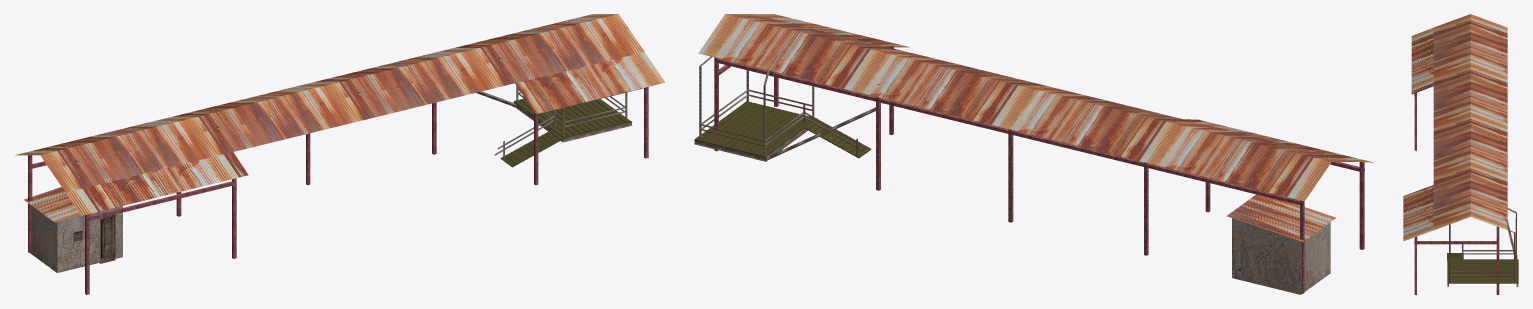
The model's file is parrilla.glb.
3 views of the same model, side by side, from view 1: azimuth 30°, elevation 25°; view 2: azimuth 150°, elevation 25°; view 3: azimuth 270°, elevation 25° (orthographic). The views are drawn at different scales.
Visible parts, largest first — view 1: Cylinder.034, Cube.018, Cube.016; view 2: Cylinder.034, Cube.018, Cube.016; view 3: Cylinder.034.
Boxes of the visible parts, x1,y1,x2,y2 form: Cylinder.034: (15,14,665,294); Cube.018: (30,205,122,272); Cube.016: (24,187,79,222); Cylinder.034: (694,14,1373,293); Cube.018: (1232,218,1330,294); Cube.016: (1226,194,1336,241); Cylinder.034: (1403,14,1518,294).
Size of the model in its own units: 302 by 57.49 by 72.53.
Materials: 6 (5 with a texture image).
